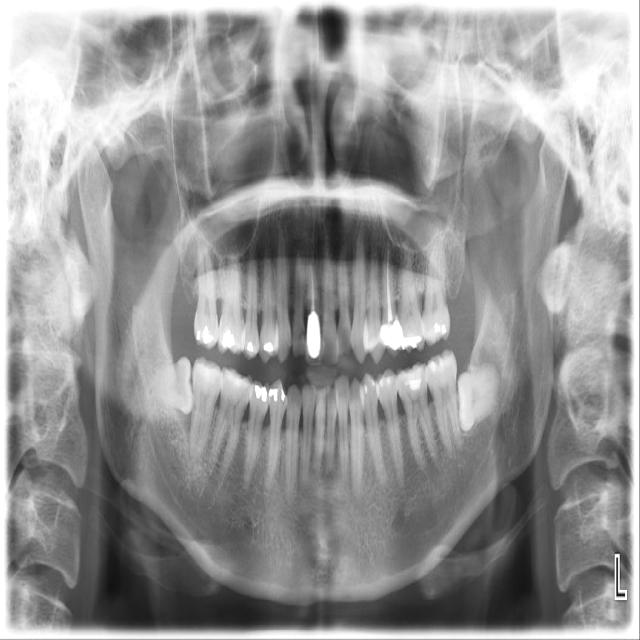Caries: (299, 329, 304, 337)
Crown: (305, 311, 323, 365), (380, 317, 403, 359)
Filling: (404, 366, 422, 392), (359, 376, 376, 396), (400, 337, 421, 351), (222, 326, 235, 348), (426, 358, 444, 372), (255, 384, 267, 402), (202, 326, 213, 344), (268, 387, 278, 402), (378, 375, 391, 386), (263, 343, 273, 352), (247, 342, 253, 352), (281, 388, 285, 401), (435, 323, 440, 333), (442, 324, 447, 334), (196, 330, 200, 341)
Root Canal Treatment: (387, 247, 394, 320), (311, 262, 313, 306)
impacted tooth: (456, 362, 501, 433), (141, 356, 194, 414)
